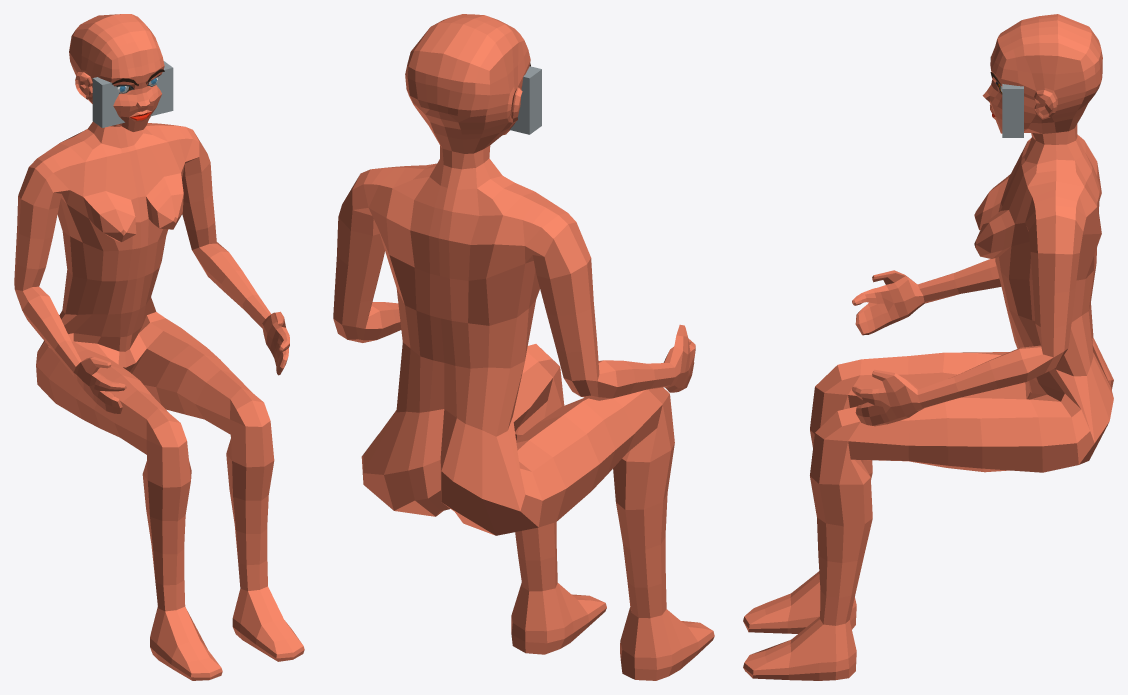
The model's file is Female_Sit_Mask.fbx.
3 renders of one model, left to right at view 1: azimuth 30°, elevation 25°; view 2: azimuth 150°, elevation 25°; view 3: azimuth 270°, elevation 25°, orthographic. The views are drawn at different scales.
Parts seen in each view (by area): view 1: Female_Sit_Mask; view 2: Female_Sit_Mask; view 3: Female_Sit_Mask.
Boxes of the visible parts, x1,y1,x2,y2 form: Female_Sit_Mask: [14, 14, 304, 680]; Female_Sit_Mask: [333, 14, 714, 680]; Female_Sit_Mask: [743, 14, 1113, 680].
Bounding box in the file's own units: 0.2788 × 0.7074 × 0.3788.
